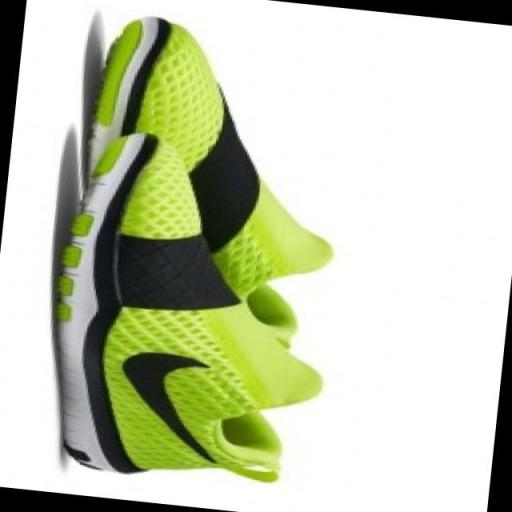Nike: (110, 338, 227, 469)
